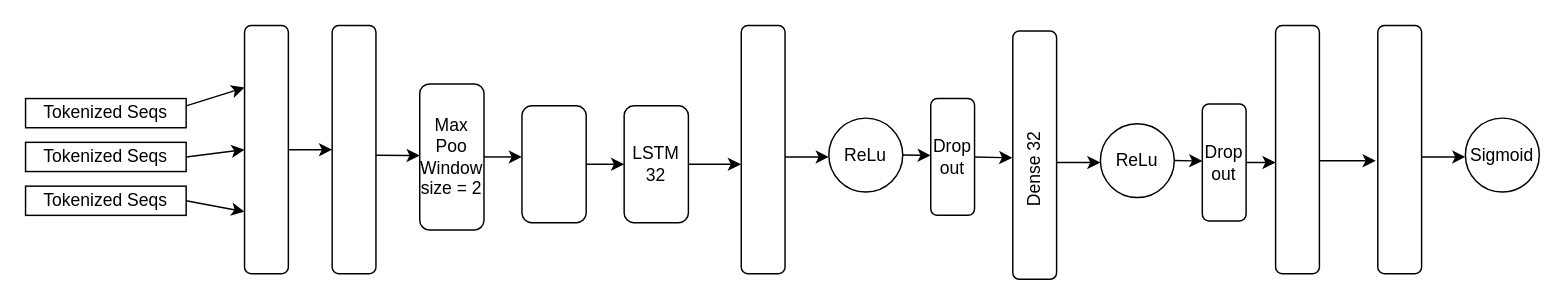
This 1565x305 diagram has some shape labels left out. The centre of each missing label's shape, as x and y in pixels:
1D Convolutional layer: pixel 353 149
Batch Noramalization: pixel 1296 149
Dense 64: pixel 762 149
Embedding Layer: pixel 265 149
Fully Connected Layer: pixel 1399 149
LSTM 64: pixel 553 163
